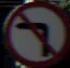Don't turn left: (5, 11, 61, 60)
